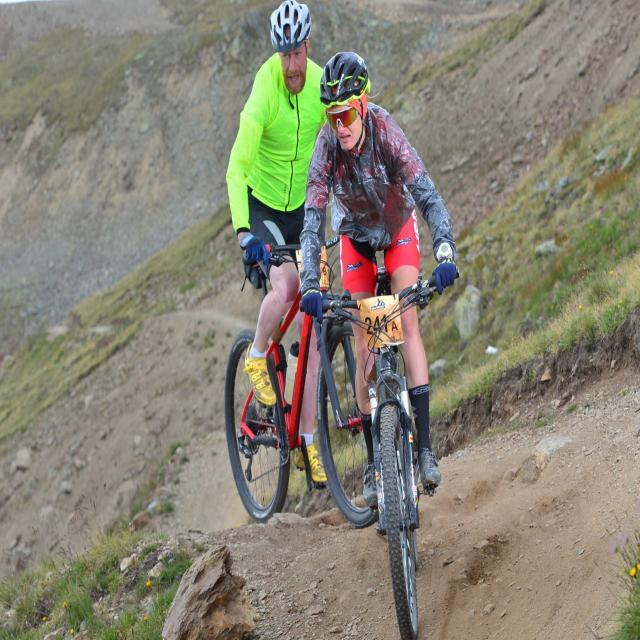bicycle: (301, 53, 459, 639), (225, 0, 376, 526)
